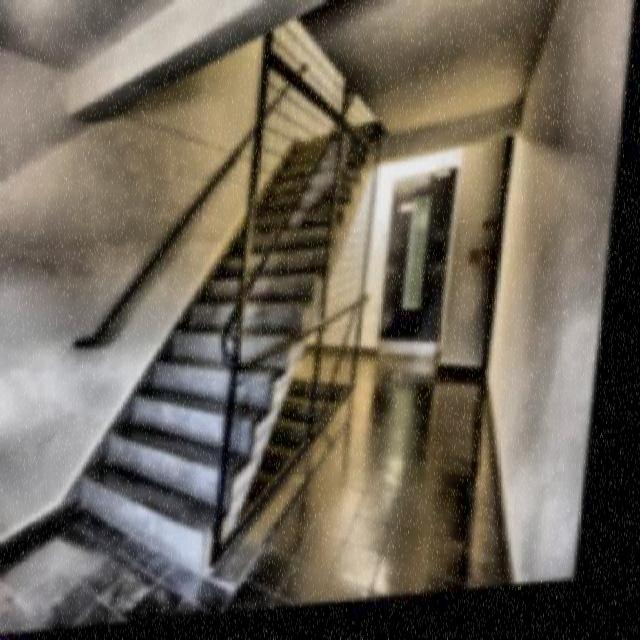stair: (94, 76, 352, 560)
